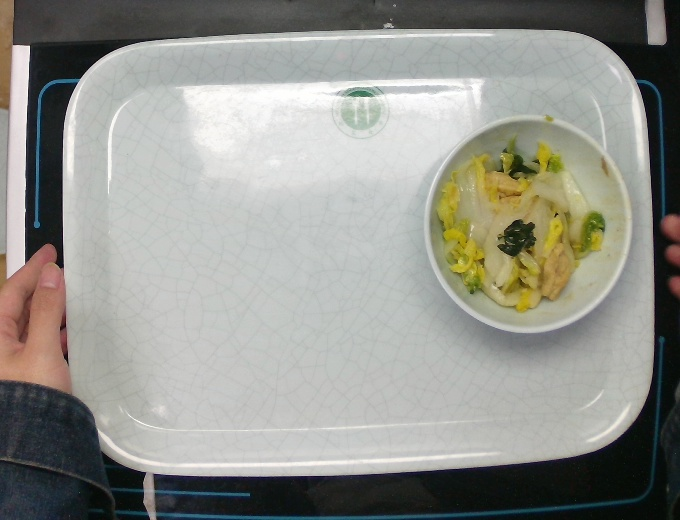JYsf-Fan_Wan: (414, 110, 637, 338)
